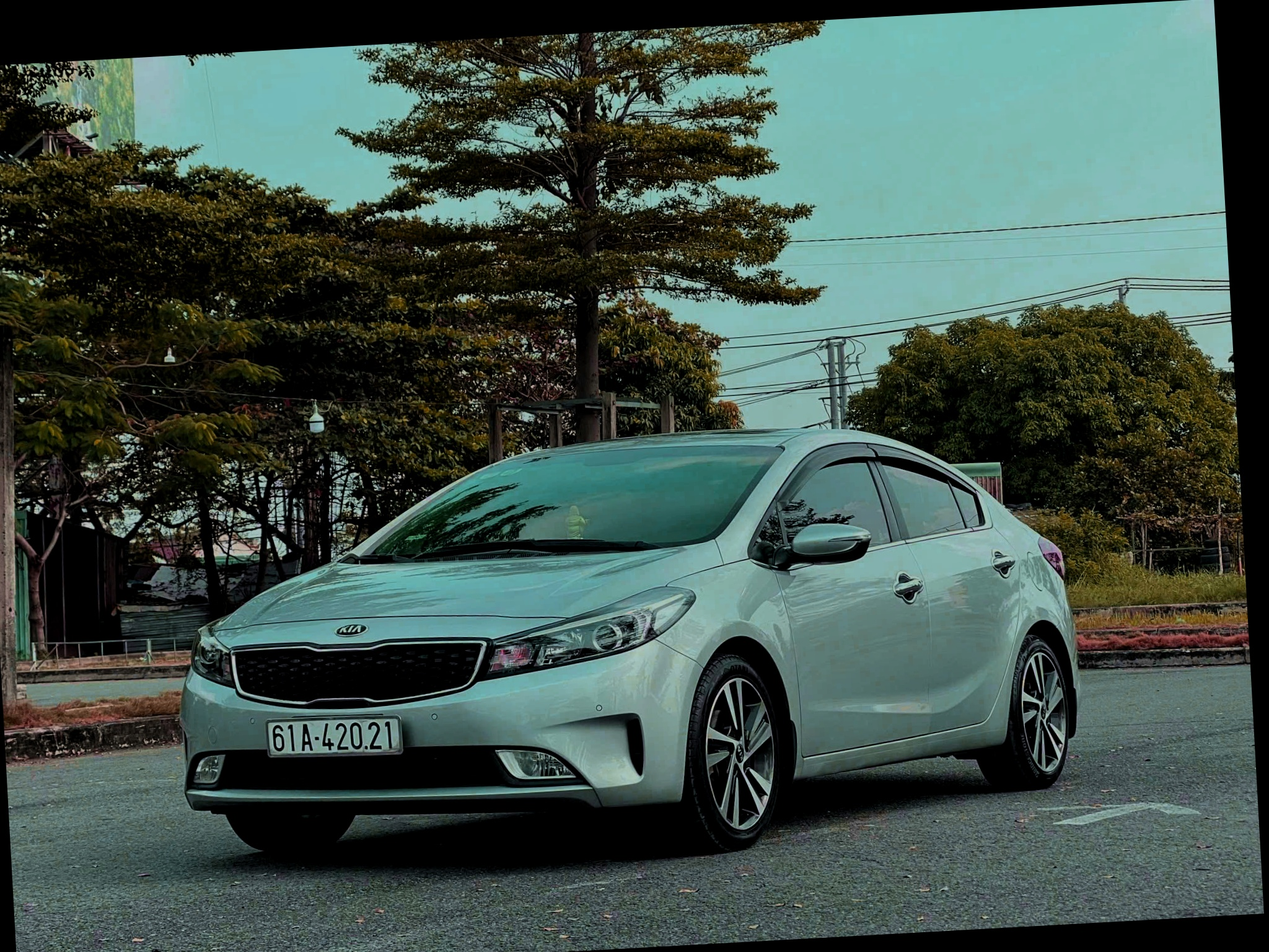Bien-so: (284, 655, 419, 700)
